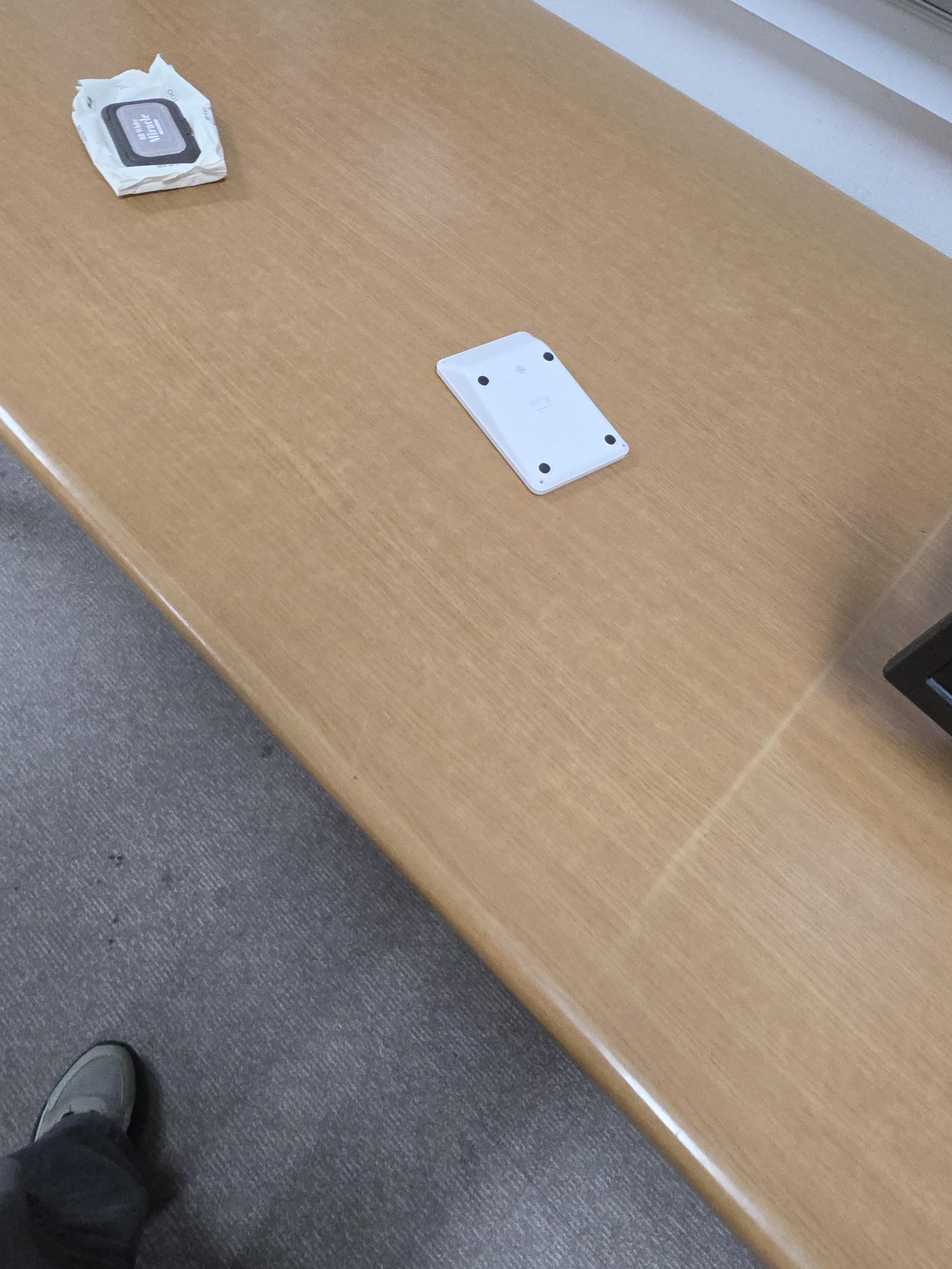calculator: (435, 330, 631, 497)
tissue: (71, 53, 228, 197)
